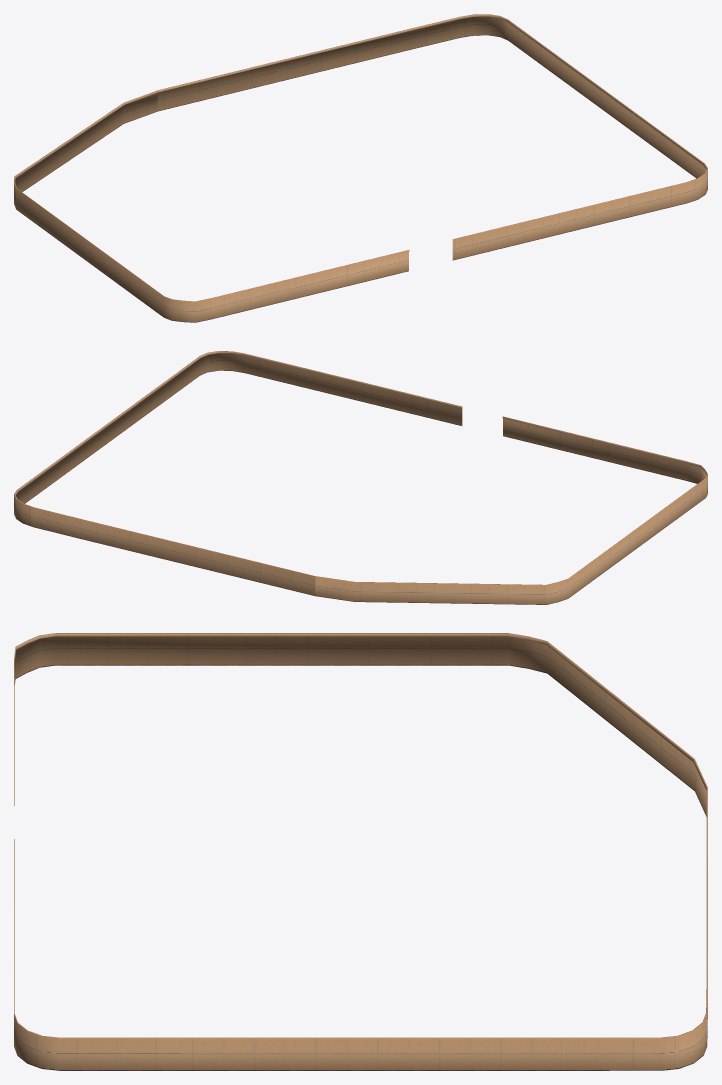
File: Island_Border.fbx
3 renders of one model, top to bottom at view 1: azimuth 30°, elevation 25°; view 2: azimuth 150°, elevation 25°; view 3: azimuth 270°, elevation 25°, orthographic. The views are drawn at different scales.
Visible parts, largest first — view 1: Terrain_NY_Asphalt.029, Terrain_NY_Asphalt.002; view 2: Terrain_NY_Asphalt.029, Terrain_NY_Asphalt.002; view 3: Terrain_NY_Asphalt.029, Terrain_NY_Asphalt.002.
Boxes of the visible parts, x1=… form: Terrain_NY_Asphalt.029: x1=157, y1=14, x2=707, y2=260; Terrain_NY_Asphalt.002: x1=14, y1=90, x2=409, y2=322; Terrain_NY_Asphalt.029: x1=14, y1=351, x2=462, y2=595; Terrain_NY_Asphalt.002: x1=315, y1=416, x2=707, y2=604; Terrain_NY_Asphalt.029: x1=14, y1=787, x2=707, y2=1070; Terrain_NY_Asphalt.002: x1=14, y1=633, x2=707, y2=816.
Bounding box in the file's own units: 353 × 13.2 × 255.
